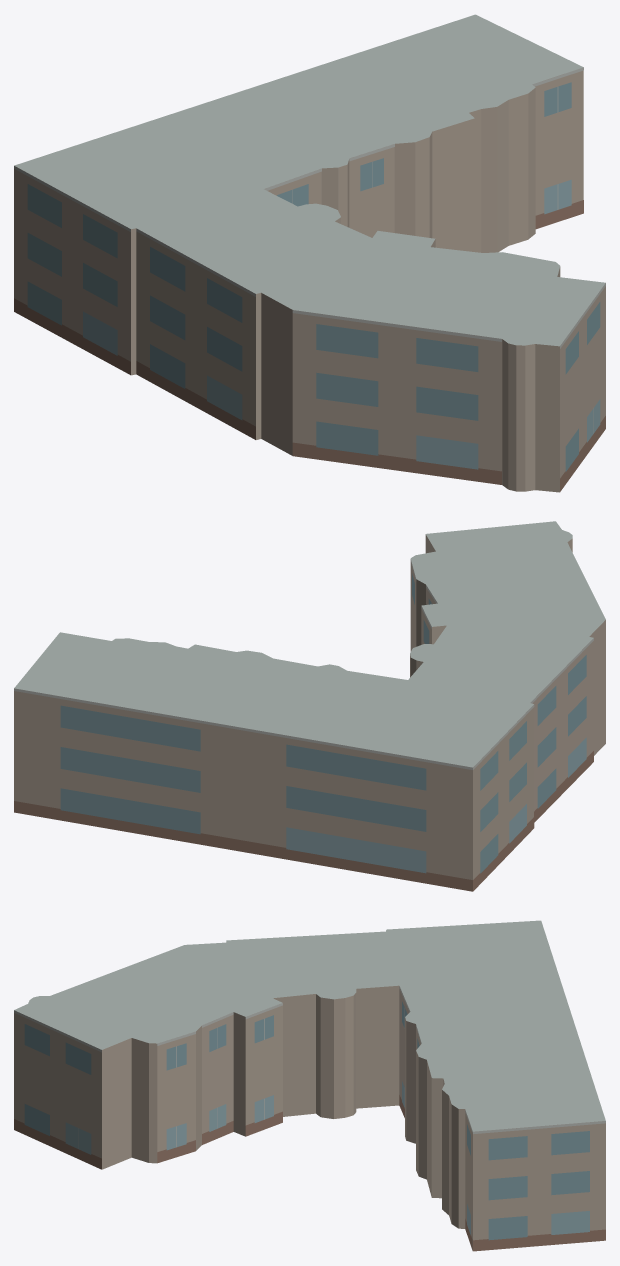
Rendered from survey-upis-32948860.glb.
3 views of the same model, one above another, from view 1: azimuth 30°, elevation 25°; view 2: azimuth 150°, elevation 25°; view 3: azimuth 270°, elevation 25° (orthographic). The views are drawn at different scales.
Parts seen in each view (by area): view 1: survey-upis-32948860.tmp; view 2: survey-upis-32948860.tmp; view 3: survey-upis-32948860.tmp.
Part boxes in pixels (<box>): survey-upis-32948860.tmp: <box>14,14,605,492</box>; survey-upis-32948860.tmp: <box>14,521,605,891</box>; survey-upis-32948860.tmp: <box>14,920,605,1251</box>.
Bounding box in the file's own units: 43.49 × 11.5 × 51.51.
